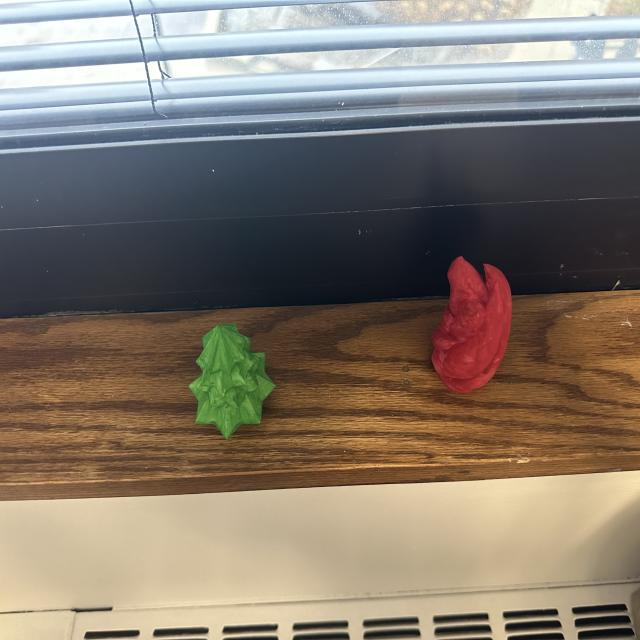fire: (429, 252, 513, 394)
tree: (187, 320, 277, 440)
